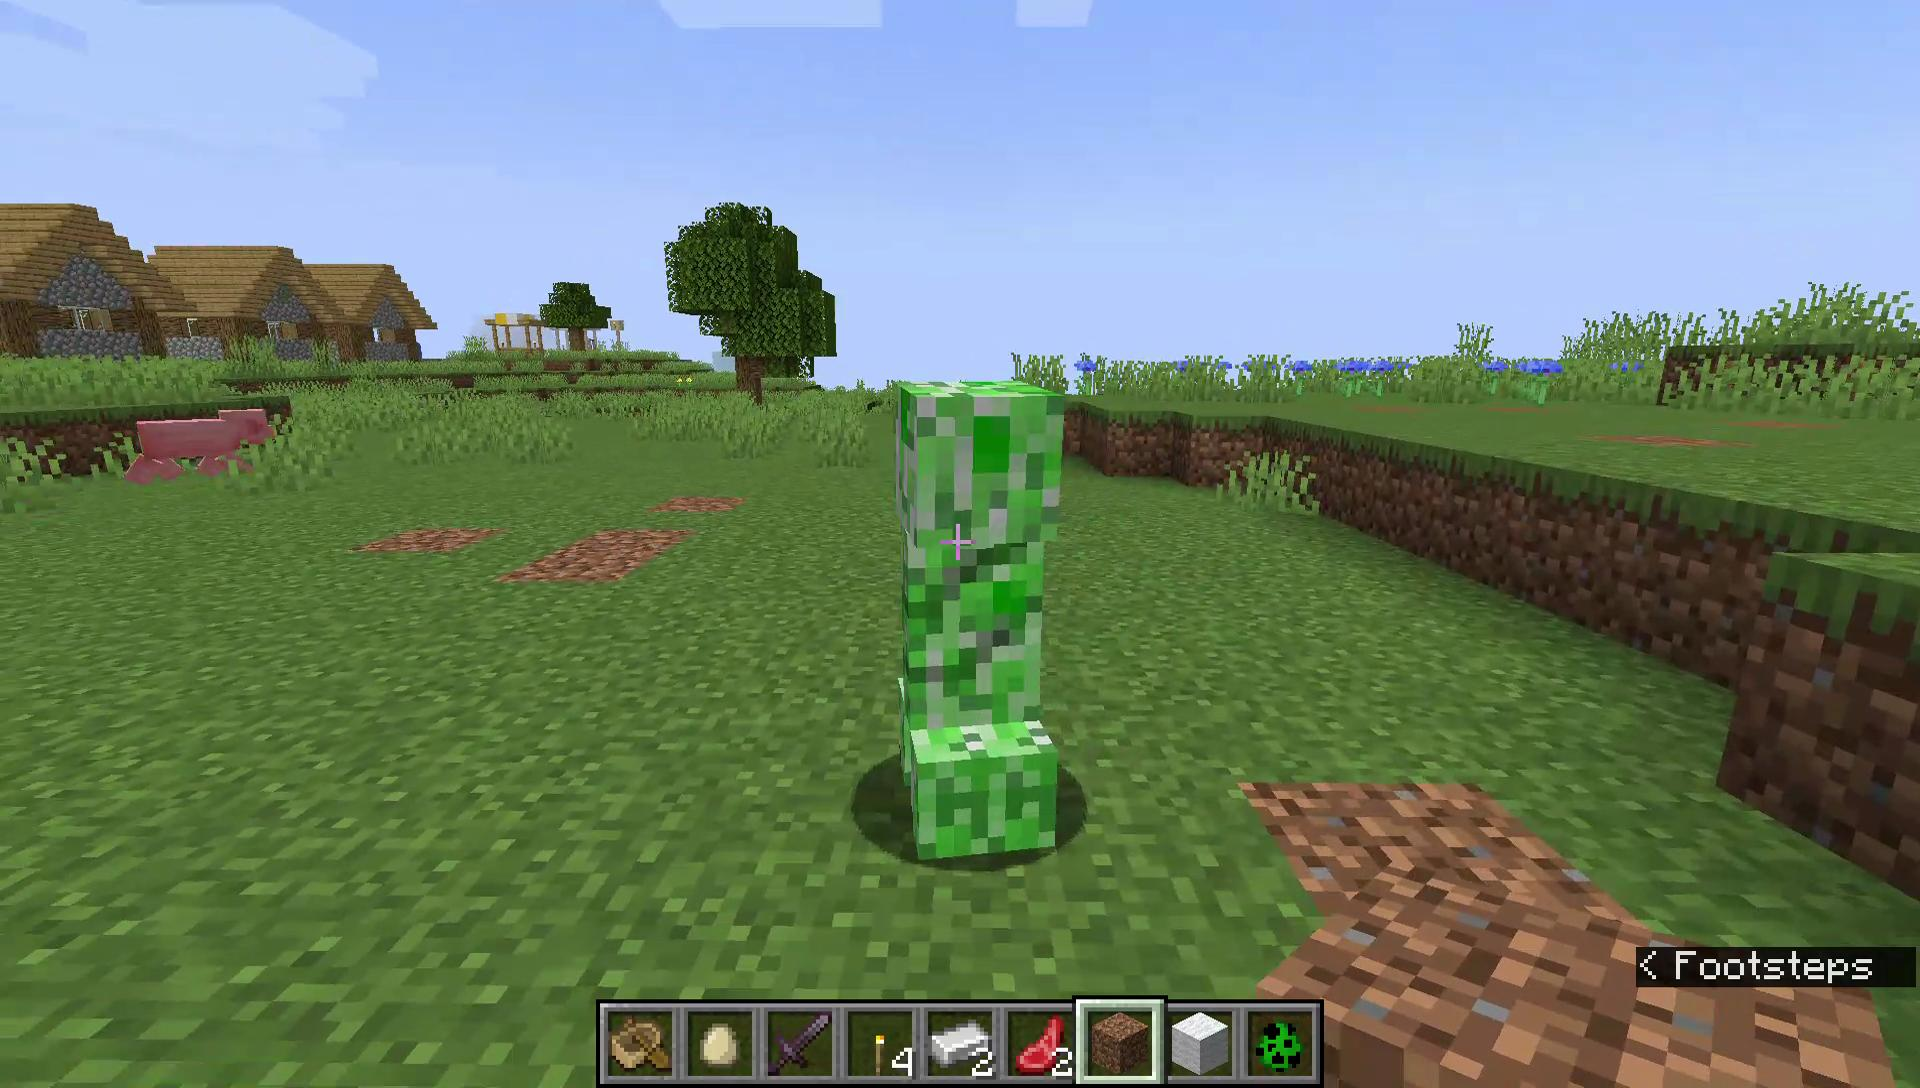creeper: (887, 376, 1071, 865)
pig: (131, 406, 274, 488)
